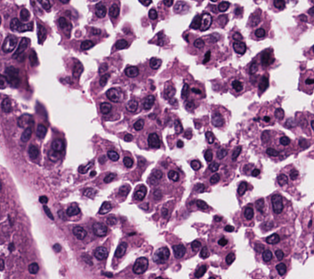nucleus: (12, 37, 29, 58), (5, 66, 19, 87), (132, 257, 148, 274), (153, 247, 169, 263), (2, 35, 17, 52), (17, 113, 33, 128), (271, 194, 283, 213), (106, 88, 123, 101), (92, 222, 107, 236), (114, 242, 127, 257), (37, 22, 46, 43), (72, 226, 86, 239), (94, 246, 107, 260), (261, 50, 273, 65), (134, 185, 146, 200), (258, 76, 268, 93), (233, 41, 246, 54), (172, 244, 185, 257), (211, 112, 223, 126), (78, 161, 92, 173), (148, 133, 159, 148), (28, 144, 39, 159), (163, 86, 175, 99), (51, 139, 64, 151), (118, 184, 130, 197), (99, 201, 111, 214), (124, 66, 138, 77), (143, 95, 154, 109), (73, 61, 82, 78), (1, 97, 11, 112), (231, 145, 241, 160), (149, 57, 161, 69), (194, 265, 206, 277), (66, 204, 79, 215), (266, 233, 279, 244), (80, 40, 94, 50), (36, 124, 46, 138), (21, 127, 31, 141), (237, 181, 247, 195), (43, 205, 53, 219), (255, 198, 264, 213), (244, 204, 253, 219), (126, 100, 137, 111), (100, 102, 111, 113), (49, 150, 60, 161), (115, 39, 127, 49), (29, 50, 37, 65), (99, 74, 109, 86), (181, 83, 189, 98), (150, 169, 162, 179), (262, 249, 272, 261), (276, 263, 286, 275), (249, 61, 258, 74), (83, 188, 96, 197), (174, 119, 182, 133), (193, 38, 204, 48), (232, 80, 242, 91), (133, 119, 143, 130), (107, 150, 118, 160), (190, 160, 201, 170), (168, 170, 178, 181), (277, 174, 287, 185), (225, 253, 235, 264), (28, 262, 38, 273), (205, 131, 214, 143), (196, 200, 208, 209), (191, 240, 200, 252), (209, 173, 219, 183), (106, 215, 116, 225), (82, 254, 92, 264), (274, 108, 283, 119), (123, 156, 132, 167), (209, 161, 218, 172), (104, 173, 115, 182), (0, 74, 7, 88), (266, 148, 278, 156), (204, 149, 212, 161), (200, 246, 208, 258), (255, 28, 265, 37), (185, 100, 194, 110), (217, 148, 226, 158), (194, 183, 204, 192), (99, 63, 107, 74), (261, 131, 269, 142), (153, 188, 161, 199), (203, 51, 210, 63), (232, 32, 242, 40), (275, 249, 283, 259), (39, 195, 47, 204), (218, 237, 227, 245), (210, 33, 218, 41), (251, 168, 259, 176), (123, 134, 132, 141), (185, 128, 191, 138), (168, 97, 176, 104), (53, 243, 60, 251), (255, 244, 263, 251), (224, 225, 233, 231), (0, 258, 4, 270), (191, 88, 200, 93), (177, 140, 183, 147), (214, 215, 221, 221), (162, 208, 167, 216), (103, 272, 112, 276), (99, 156, 104, 163), (8, 243, 13, 250), (263, 116, 269, 121), (90, 171, 95, 176), (128, 232, 134, 235)
